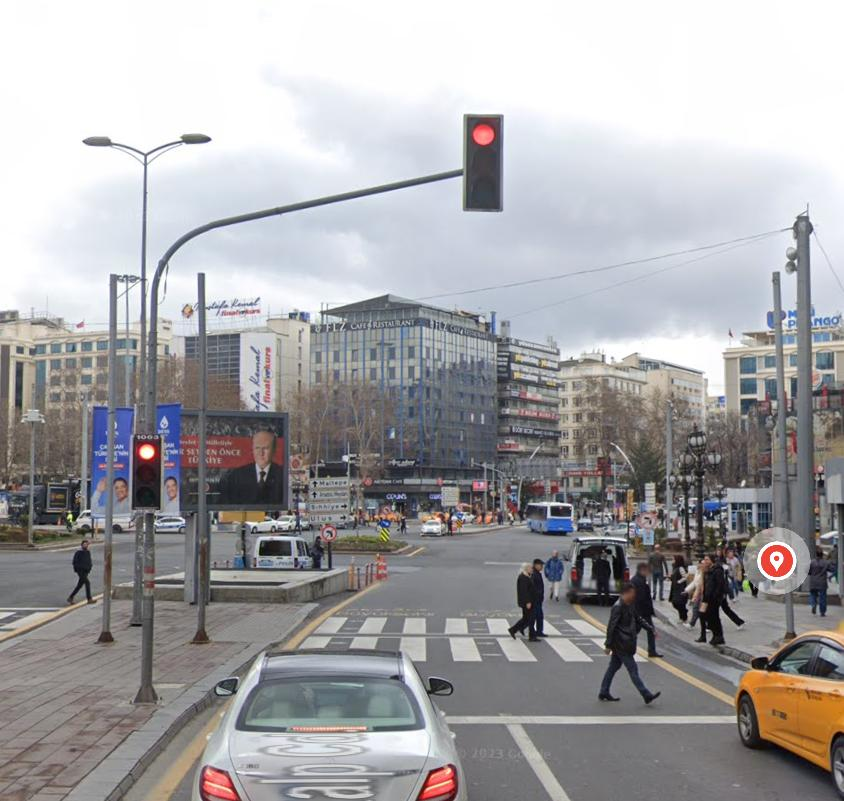redlight: (461, 109, 503, 211), (131, 433, 163, 512)
